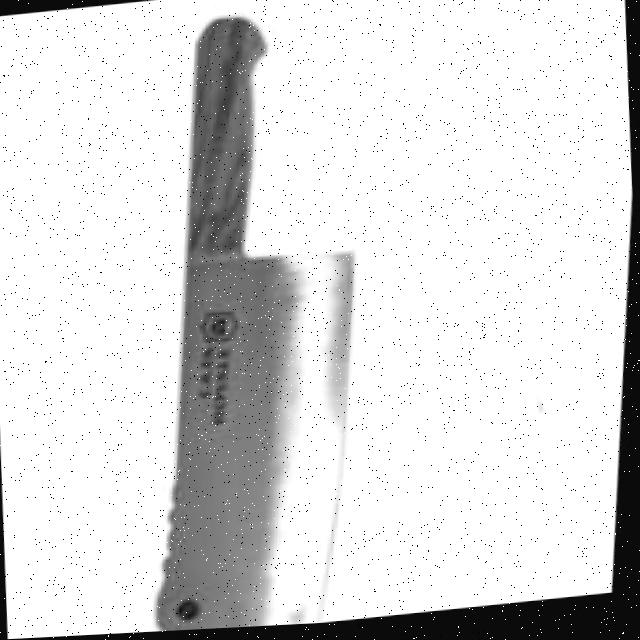knife: (121, 7, 376, 635)
